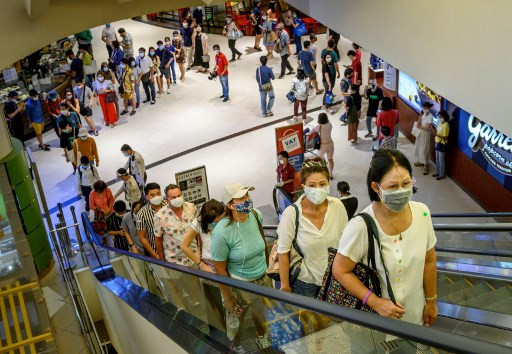with_mask: (375, 176, 416, 211), (302, 173, 332, 207), (227, 192, 256, 214), (167, 189, 186, 209), (147, 189, 164, 206)
